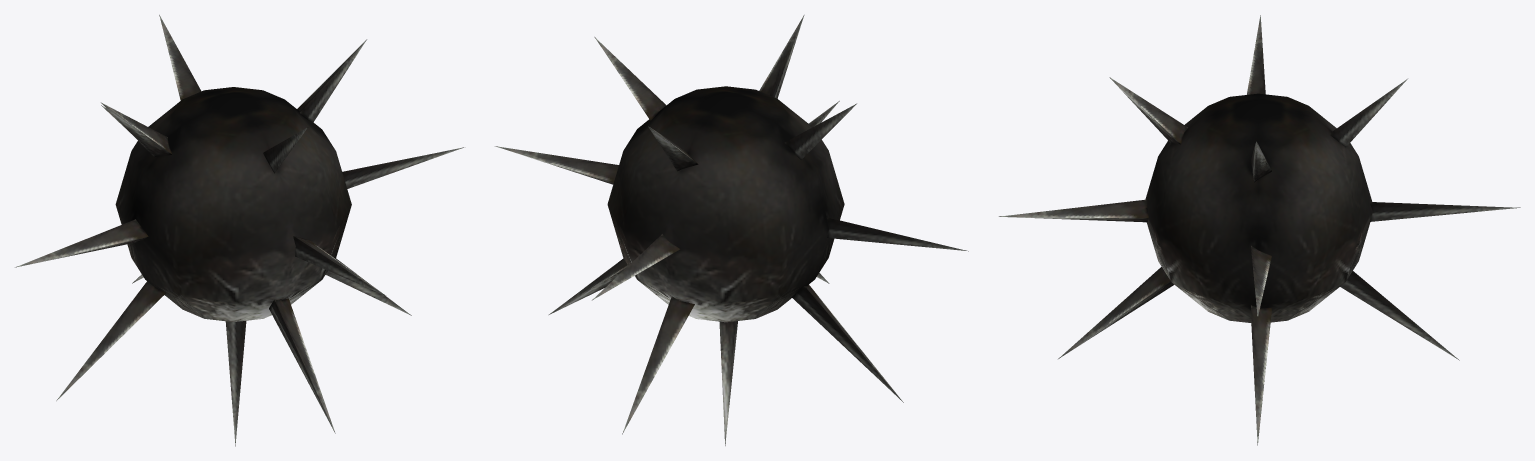
Rendered from Chenxingchui_body.FBX.
The picture shows the model from 3 angles, left to right: view 1: azimuth 30°, elevation 25°; view 2: azimuth 150°, elevation 25°; view 3: azimuth 270°, elevation 25°; orthographic projection. The views are drawn at different scales.
Parts seen in each view (by area): view 1: Chenxingchui_body; view 2: Chenxingchui_body; view 3: Chenxingchui_body.
Part boxes in pixels (bbox=[...]): Chenxingchui_body: bbox=[15, 15, 463, 446]; Chenxingchui_body: bbox=[495, 15, 968, 445]; Chenxingchui_body: bbox=[999, 15, 1520, 445].
Size of the model in its own units: 48.36 by 37.62 by 48.36.
Materials: 1 (1 with a texture image).
